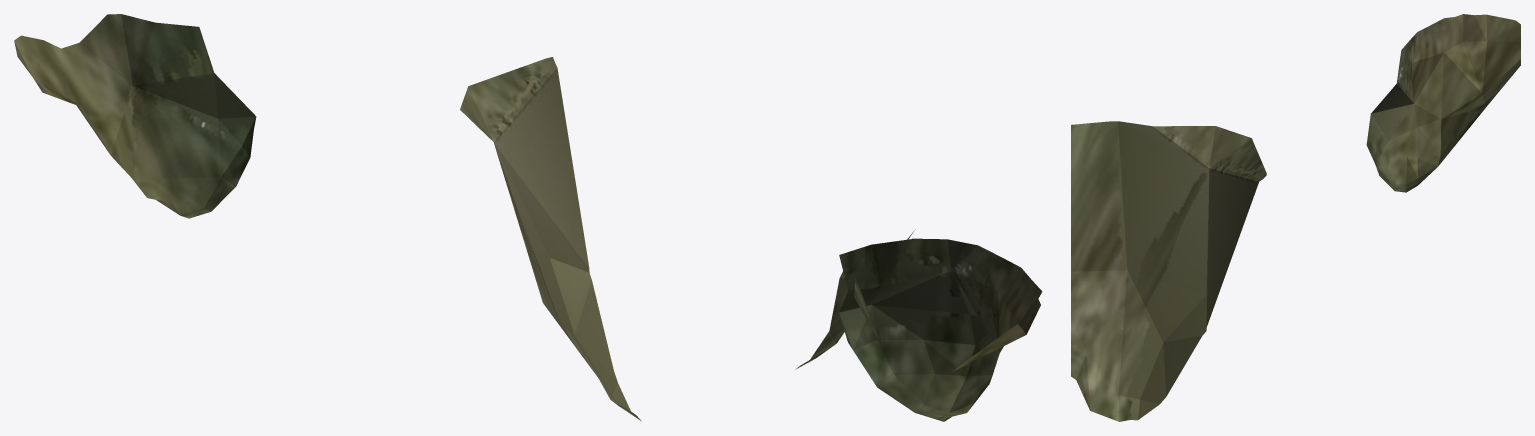
3 renders of one model, left to right at view 1: azimuth 30°, elevation 25°; view 2: azimuth 150°, elevation 25°; view 3: azimuth 270°, elevation 25°, orthographic. The views are drawn at different scales.
Size of the model in its own units: 2.51 by 1.78 by 2.95.
1 material, 1 textured.
